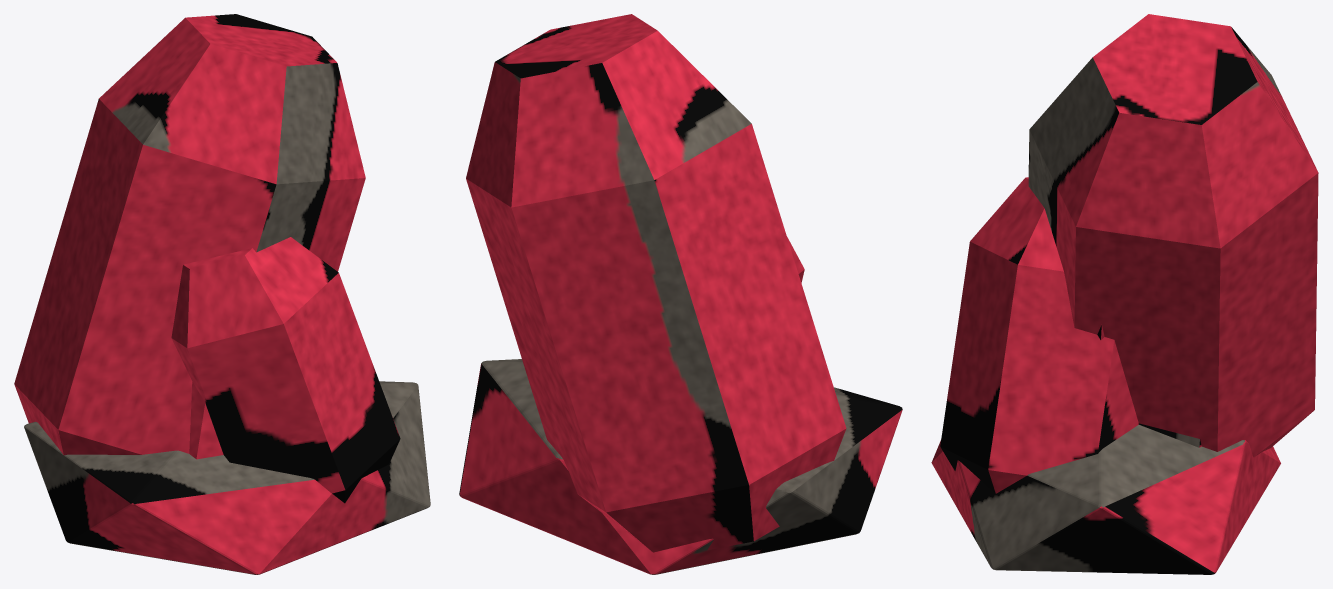
Rendered from Emerald.fbx.
3 renders of one model, left to right at view 1: azimuth 30°, elevation 25°; view 2: azimuth 150°, elevation 25°; view 3: azimuth 270°, elevation 25°, orthographic. The views are drawn at different scales.
Visible parts, largest first — view 1: SDT_Mineral_Emerald; view 2: SDT_Mineral_Emerald; view 3: SDT_Mineral_Emerald.
Boxes of the visible parts, box(x1,y1,x2,y2) form: SDT_Mineral_Emerald: box(14, 14, 430, 574); SDT_Mineral_Emerald: box(459, 14, 902, 574); SDT_Mineral_Emerald: box(931, 14, 1318, 574).
Bounding box in the file's own units: 45 × 60 × 40.
